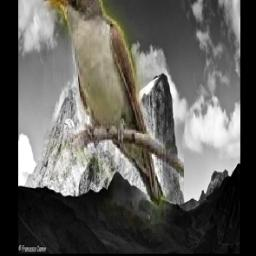Cuckoo: (43, 0, 184, 243)
